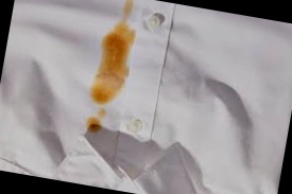coffee: (93, 30, 129, 104), (86, 117, 101, 133)
